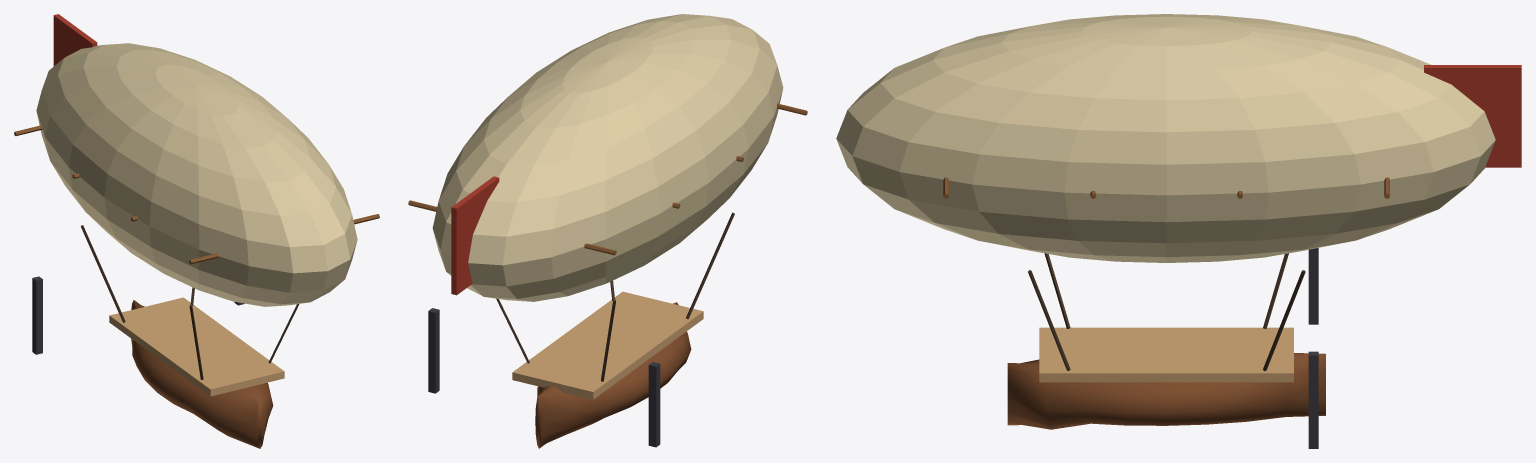
File: veh_airship.glb
The picture shows the model from 3 angles, left to right: view 1: azimuth 30°, elevation 25°; view 2: azimuth 150°, elevation 25°; view 3: azimuth 270°, elevation 25°; orthographic projection. The views are drawn at different scales.
Parts seen in each view (by area): view 1: envelope, deck, hull, fin, prop, rope.001; view 2: envelope, deck, hull, fin, prop, prop.001, rope; view 3: envelope, hull, deck, fin, prop.001, prop.
Part boxes in pixels (x1,y1,x2,y2): envelope: (36,43,357,306); deck: (109,297,284,396); hull: (131,300,273,448); fin: (53,14,97,66); prop: (32,276,42,354); rope.001: (81,225,125,322); envelope: (432,14,783,301); deck: (512,291,703,399); hull: (535,302,691,448); fin: (451,176,499,295); prop: (648,362,660,447); prop.001: (428,308,439,393); rope: (686,212,734,319); envelope: (836,14,1495,262); hull: (1007,353,1325,429); deck: (1039,327,1293,382); fin: (1424,65,1521,167); prop.001: (1308,351,1318,448); prop: (1308,248,1318,324).
Bounding box in the file's own units: 1.24 × 1.79 × 2.8.
